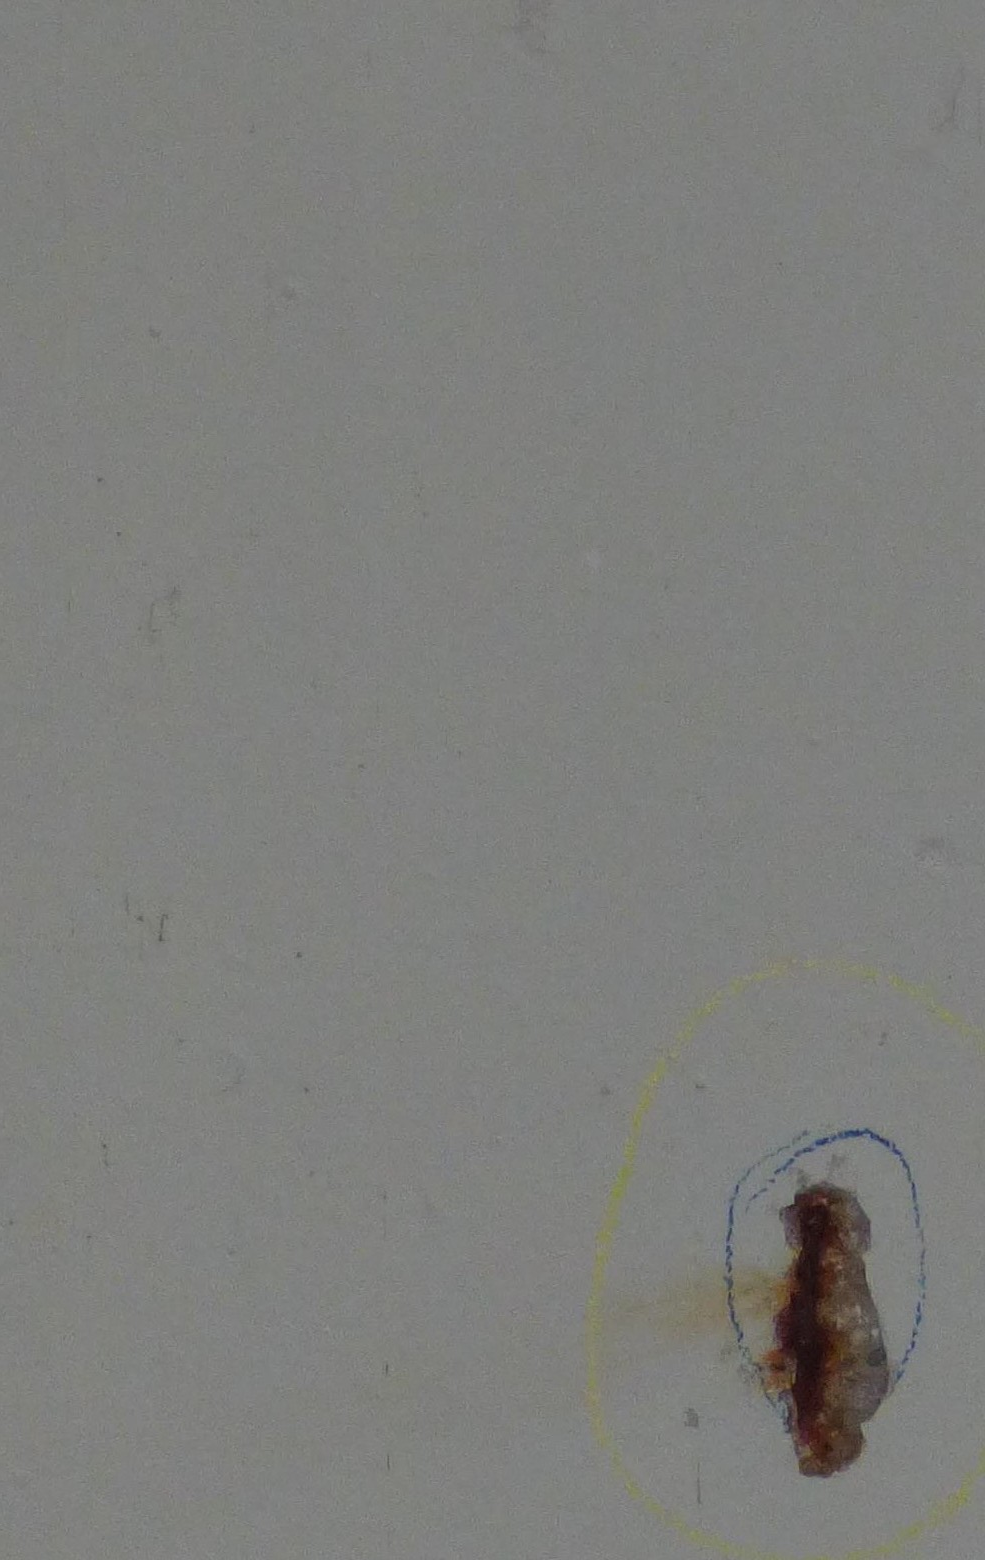Exposed reinforcement: (793, 1203, 824, 1418)
Spalling: (760, 1179, 891, 1481)
